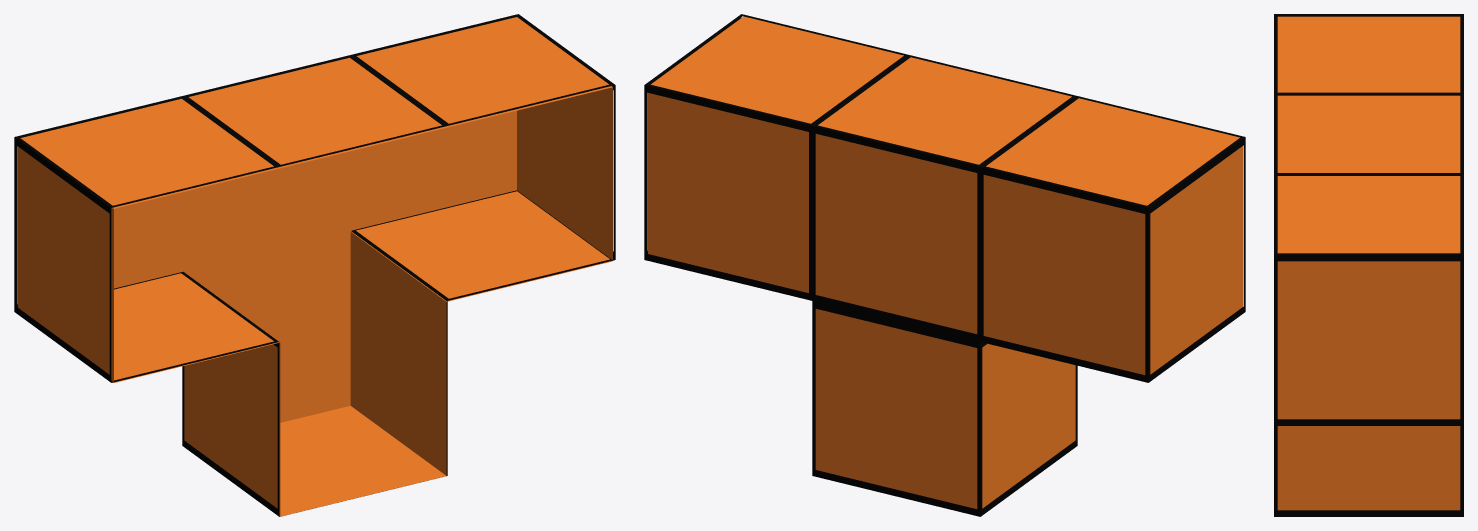
File: ChickenMouth.fbx
3 renders of one model, left to right at view 1: azimuth 30°, elevation 25°; view 2: azimuth 150°, elevation 25°; view 3: azimuth 270°, elevation 25°, orthographic. The views are drawn at different scales.
Parts seen in each view (by area): view 1: t.001; view 2: t.001; view 3: t.001.
Part boxes in pixels (<box>): t.001: <box>14,14,615,516</box>; t.001: <box>644,14,1245,516</box>; t.001: <box>1274,14,1463,516</box>.
Size of the model in its own units: 60.6 by 40.2 by 20.2.
